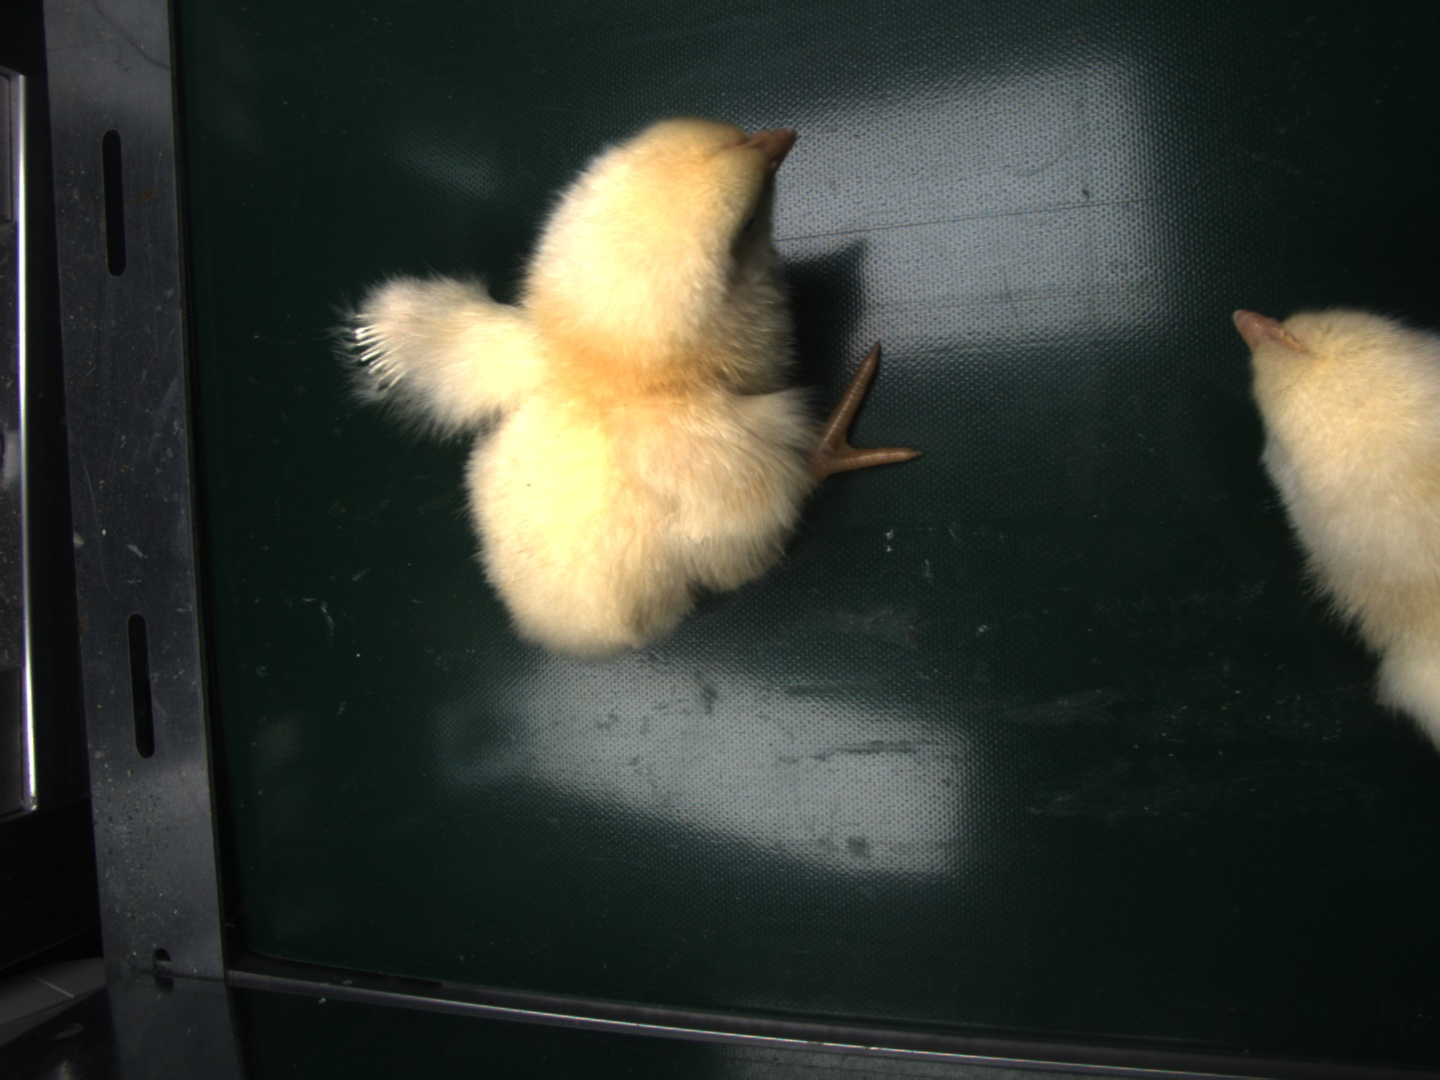male: (354, 318, 409, 386)
